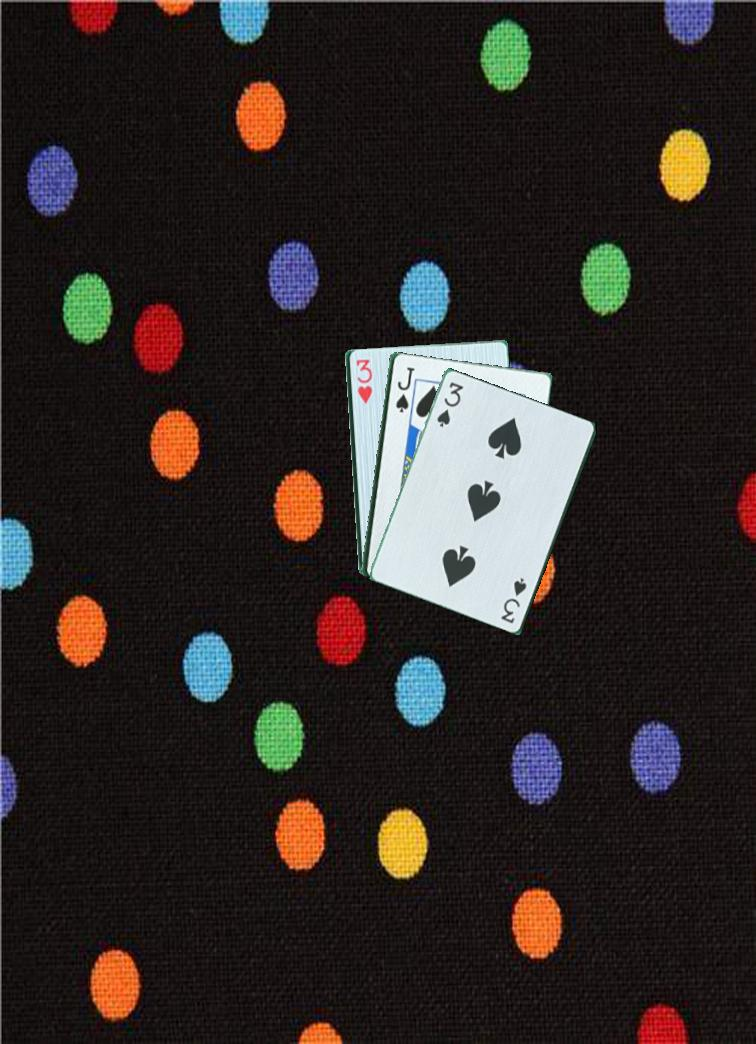3h: (352, 355, 373, 406)
3s: (498, 570, 530, 626), (433, 378, 466, 430)
js: (392, 363, 414, 416)
